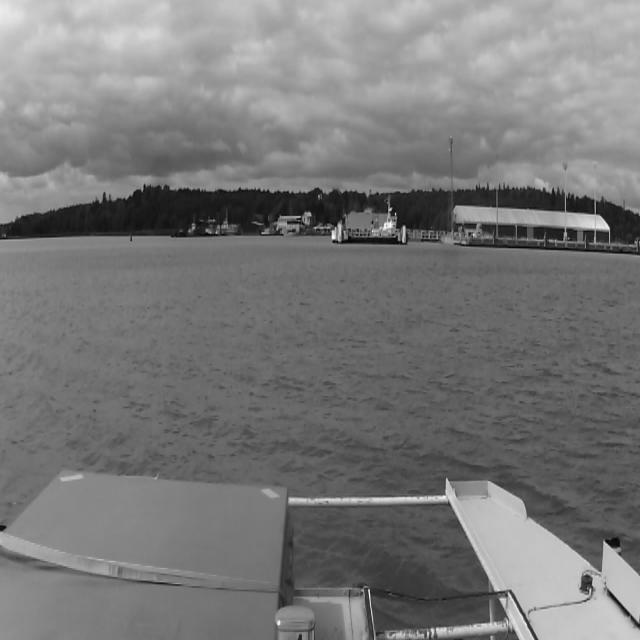buoy: (129, 231, 132, 241)
ship: (170, 222, 198, 238), (198, 220, 220, 236), (260, 225, 284, 236), (221, 222, 239, 236)
